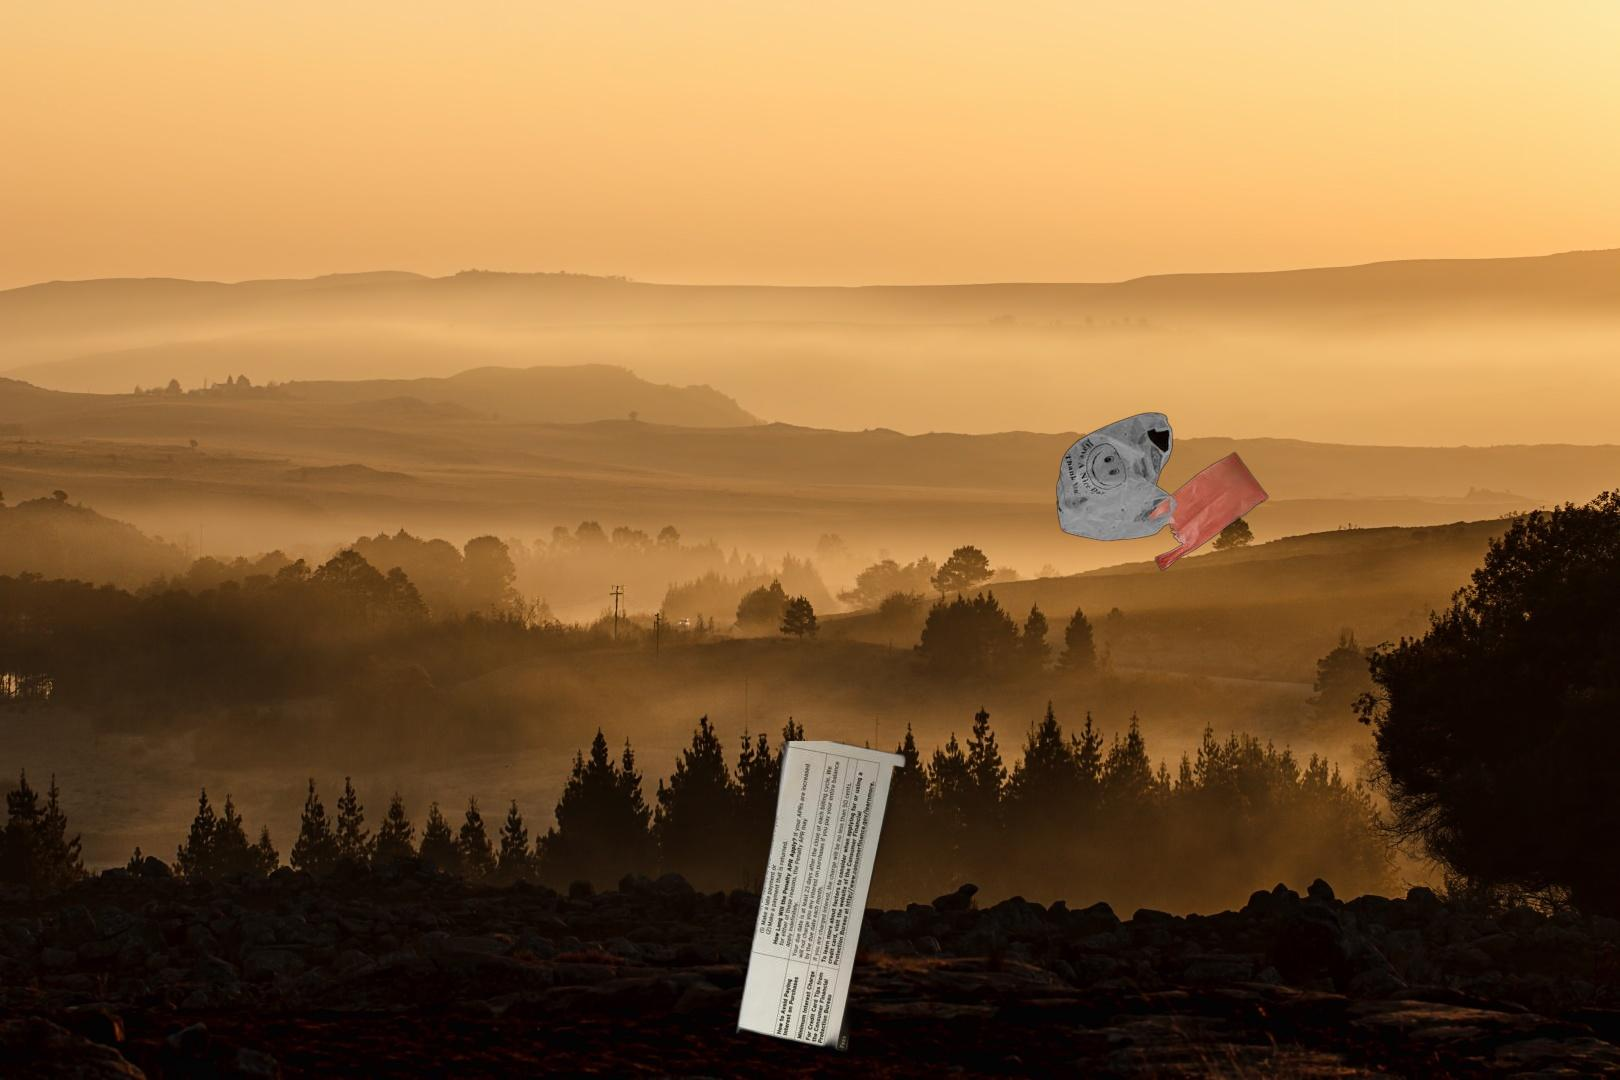paper: (730, 741, 912, 1061)
plastic-bag: (1055, 410, 1270, 573)
